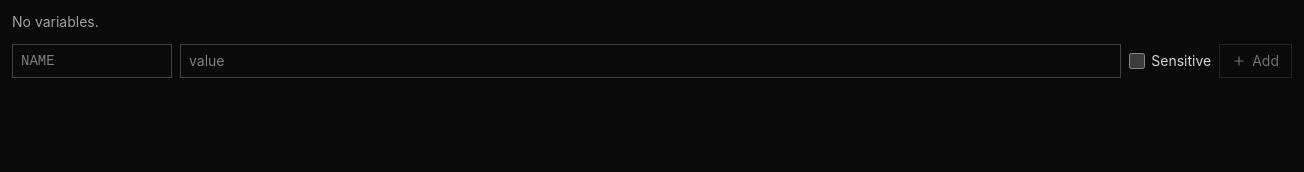
VariablesEditor › adds a variable via POST and appends it to the list
Check: the text "No variables." is shown, box [12, 13, 99, 30]
In the field named "Variable name": point(92, 61) [12, 44, 172, 78], type "REGION"
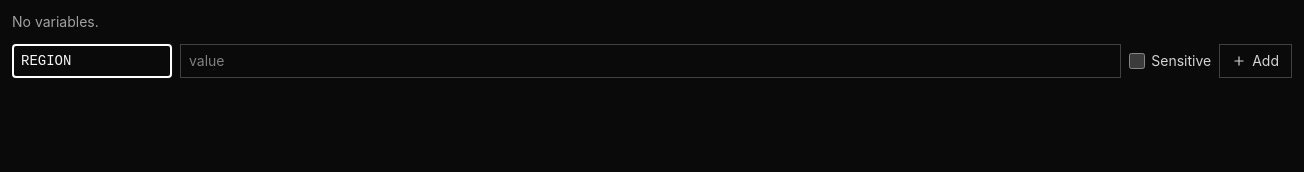
In the field named "Variable value": point(651, 61) [180, 44, 1121, 78], type "us-east-1"
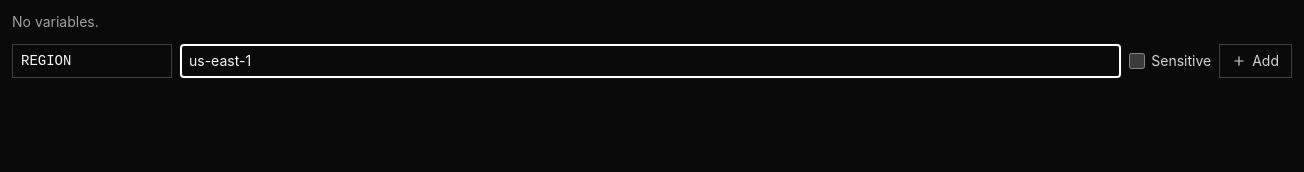
Click the button "Add": point(1256, 61) [1219, 44, 1292, 78]
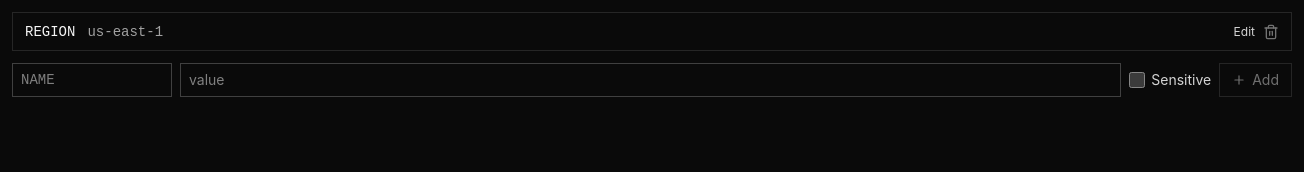
Check: the text "REGION" is shown, box [25, 22, 75, 42]
